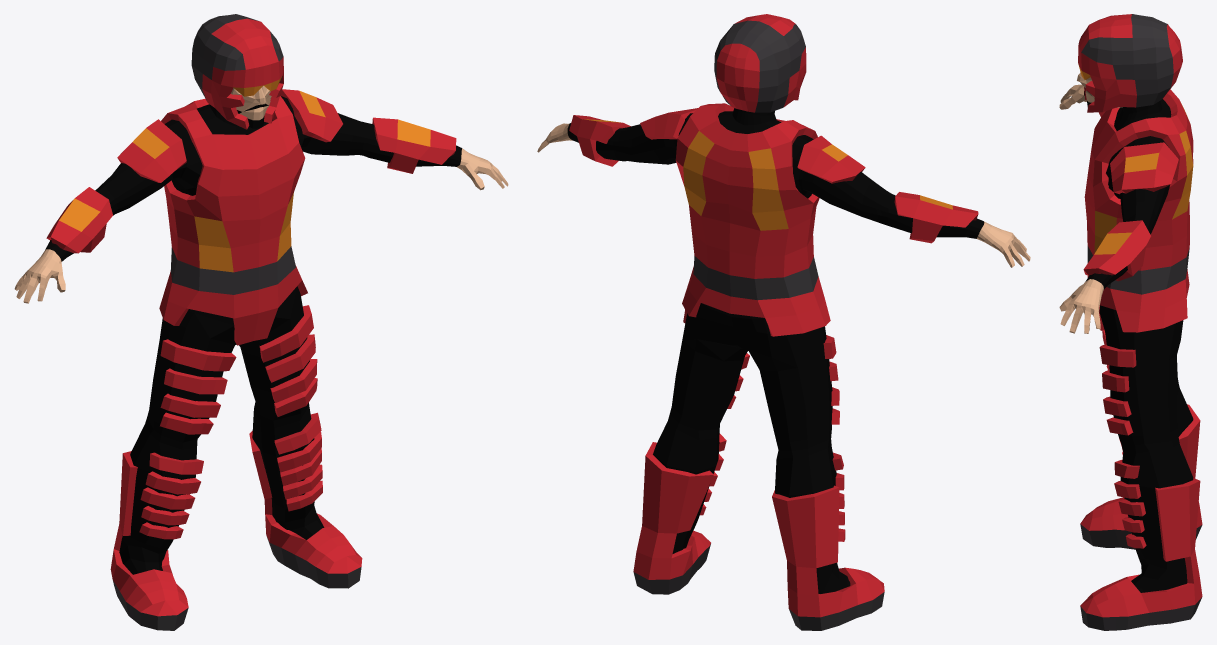
File: Personaje Rojo.fbx
3 views of the same model, side by side, from view 1: azimuth 30°, elevation 25°; view 2: azimuth 150°, elevation 25°; view 3: azimuth 270°, elevation 25° (orthographic).
Parts seen in each view (by area): view 1: Plane.018, Plane.017; view 2: Plane.018, Plane.017; view 3: Plane.018, Plane.017.
Part boxes in pixels (x1,y1,x2,y2): Plane.018: (46, 14, 456, 630); Plane.017: (14, 85, 508, 574); Plane.018: (569, 14, 978, 630); Plane.017: (537, 108, 1030, 593); Plane.018: (1078, 14, 1202, 630); Plane.017: (1059, 72, 1193, 592).
Bounding box in the file's own units: 1.61 × 1.82 × 0.4184.
